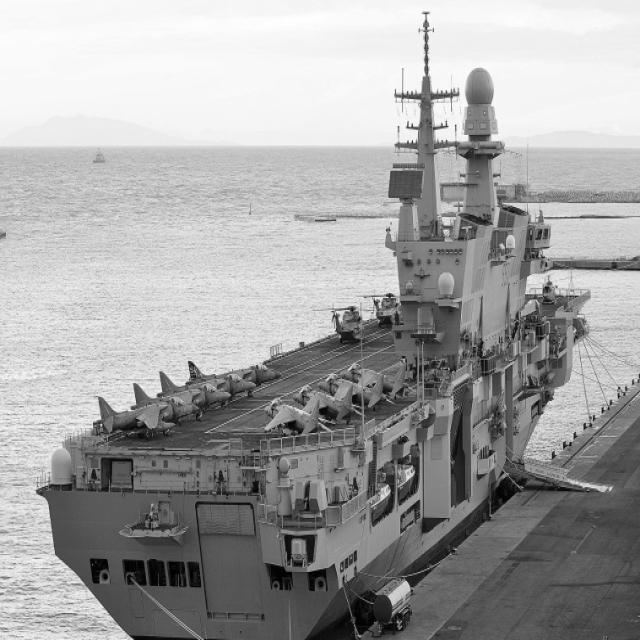Portanaves: (34, 1, 597, 640)
